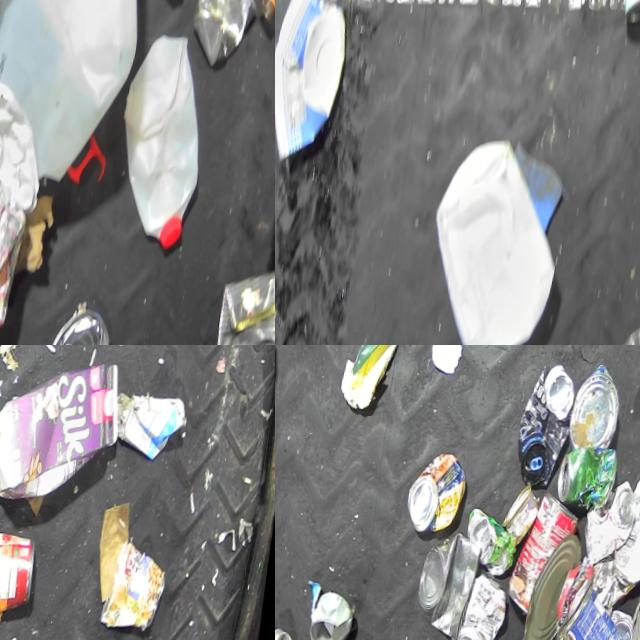can: (503, 493, 583, 630), (511, 366, 580, 500), (410, 531, 484, 640), (184, 0, 265, 88), (96, 545, 170, 640), (519, 538, 583, 640), (402, 451, 469, 544), (578, 484, 638, 581), (566, 368, 625, 463), (552, 449, 617, 524), (543, 586, 631, 640), (460, 509, 519, 587), (446, 574, 510, 640), (0, 531, 39, 633), (498, 489, 542, 556), (38, 308, 115, 345), (304, 592, 355, 640), (624, 576, 640, 640), (602, 615, 634, 640)
milk_jug: (409, 131, 576, 345), (0, 0, 165, 209), (102, 31, 220, 270)
non_white_jug: (0, 356, 127, 526)
